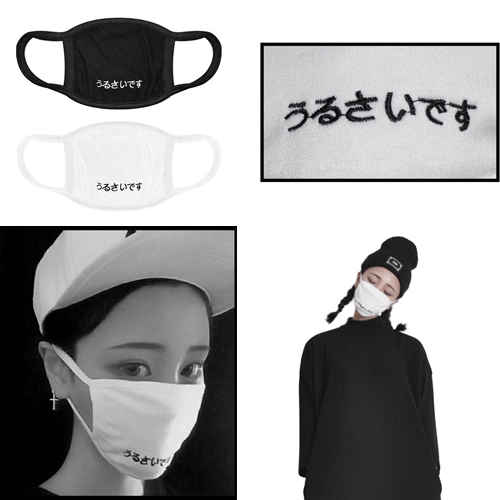face_mask: (85, 290, 208, 480), (355, 262, 400, 314)
